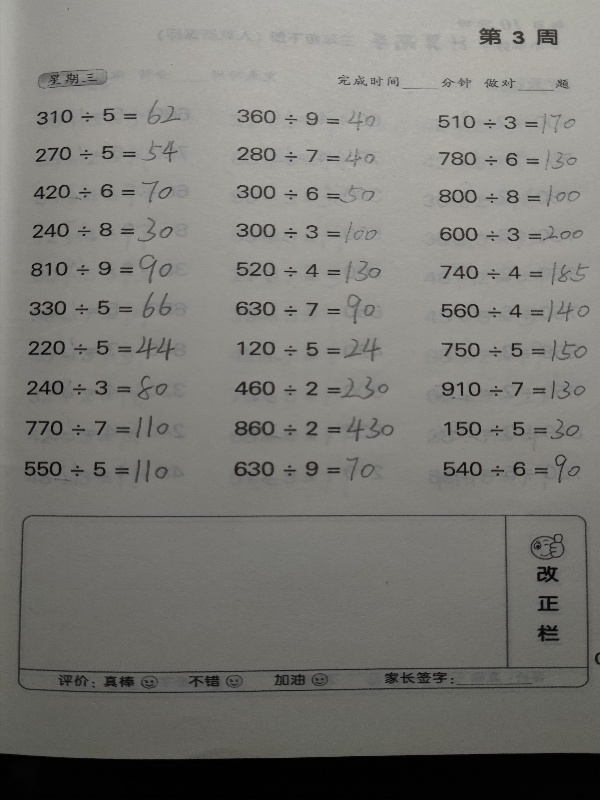equation: (233, 289, 383, 324), (440, 451, 585, 487), (230, 415, 397, 445), (32, 132, 183, 164), (26, 290, 174, 322), (437, 334, 589, 365), (231, 371, 393, 400), (25, 334, 179, 364), (436, 255, 590, 285), (24, 372, 172, 403), (21, 457, 172, 487), (231, 454, 379, 484), (29, 173, 180, 202), (33, 97, 183, 126), (23, 413, 173, 441), (441, 415, 584, 444), (234, 332, 382, 360), (233, 214, 380, 242), (438, 377, 590, 404), (437, 297, 593, 323), (234, 255, 384, 281), (26, 255, 174, 281), (29, 218, 176, 244), (435, 144, 582, 170), (233, 178, 378, 204), (233, 104, 379, 129), (233, 141, 378, 166), (437, 222, 586, 246), (436, 184, 582, 208), (435, 109, 579, 133)
